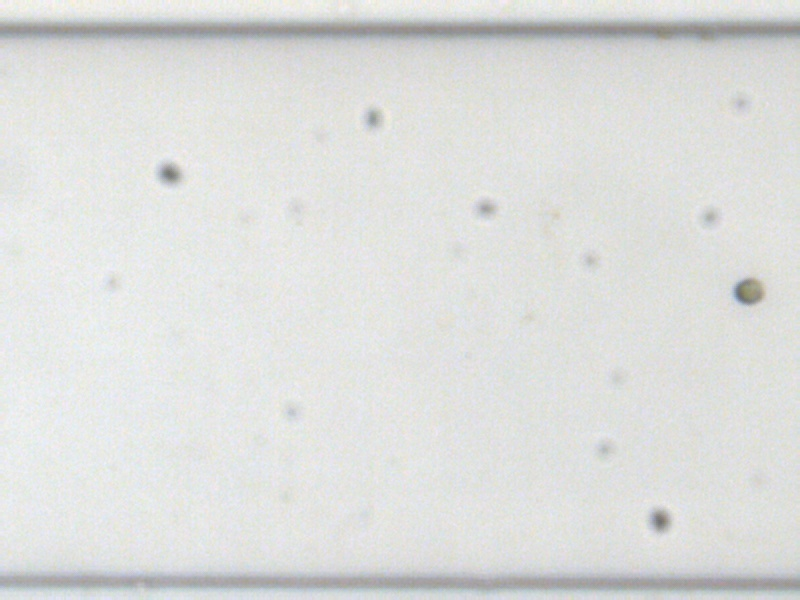Dunaliella salina: (731, 276, 763, 304)
